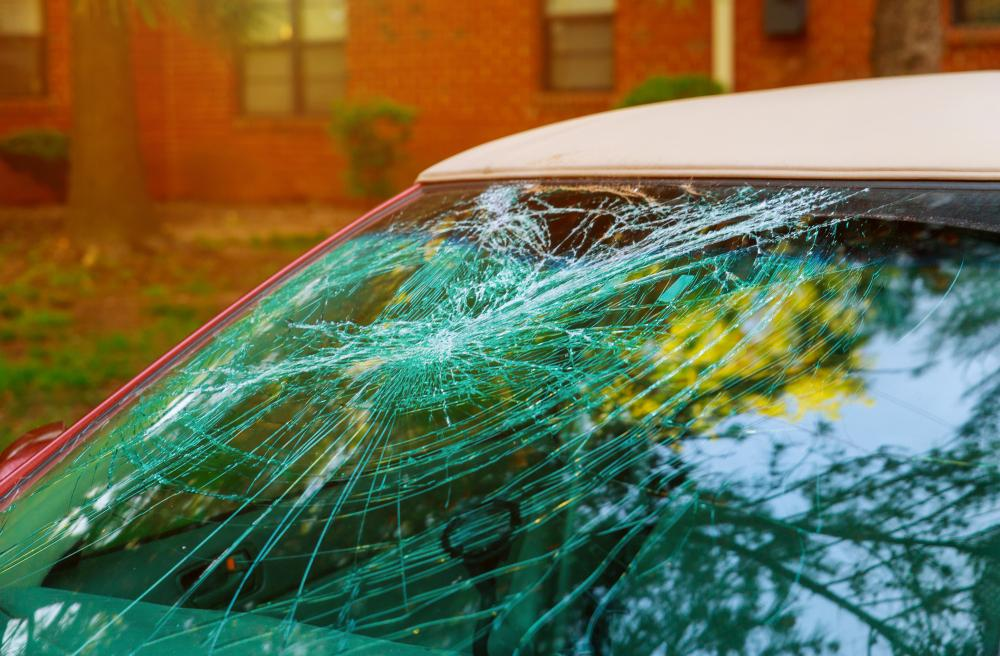glass shatter: (0, 177, 1000, 656)
